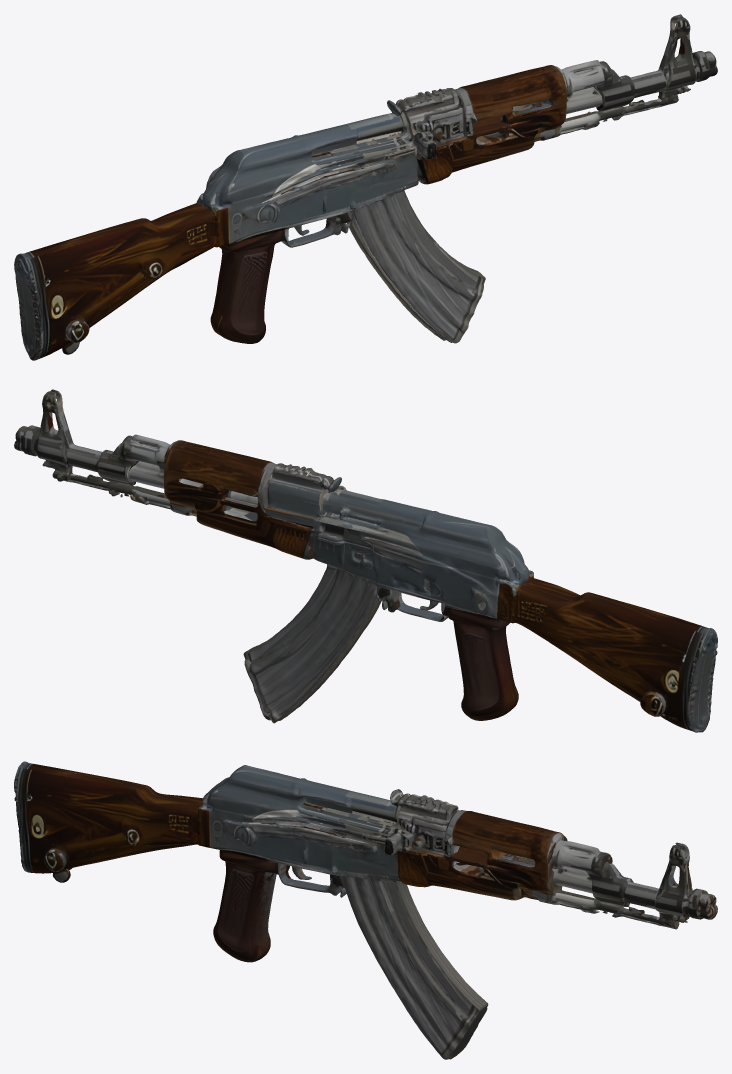
3 views of the same model, one above another, from view 1: azimuth 30°, elevation 25°; view 2: azimuth 150°, elevation 25°; view 3: azimuth 330°, elevation 25° (orthographic).
Parts seen in each view (by area): view 1: textured_mesh_temp; view 2: textured_mesh_temp; view 3: textured_mesh_temp.
Part boxes in pixels (<box>): textured_mesh_temp: <box>14,14,717,360</box>; textured_mesh_temp: <box>14,389,717,732</box>; textured_mesh_temp: <box>14,761,717,1059</box>.
Bounding box in the file's own units: 1.9 × 0.7049 × 0.1784.
Materials: 1 (1 with a texture image).
